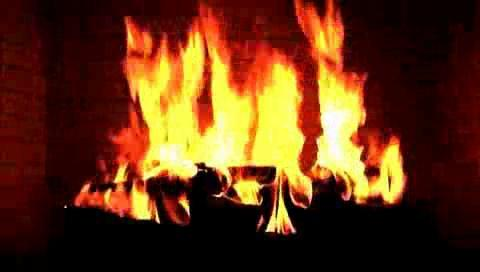fire: (103, 3, 397, 213)
